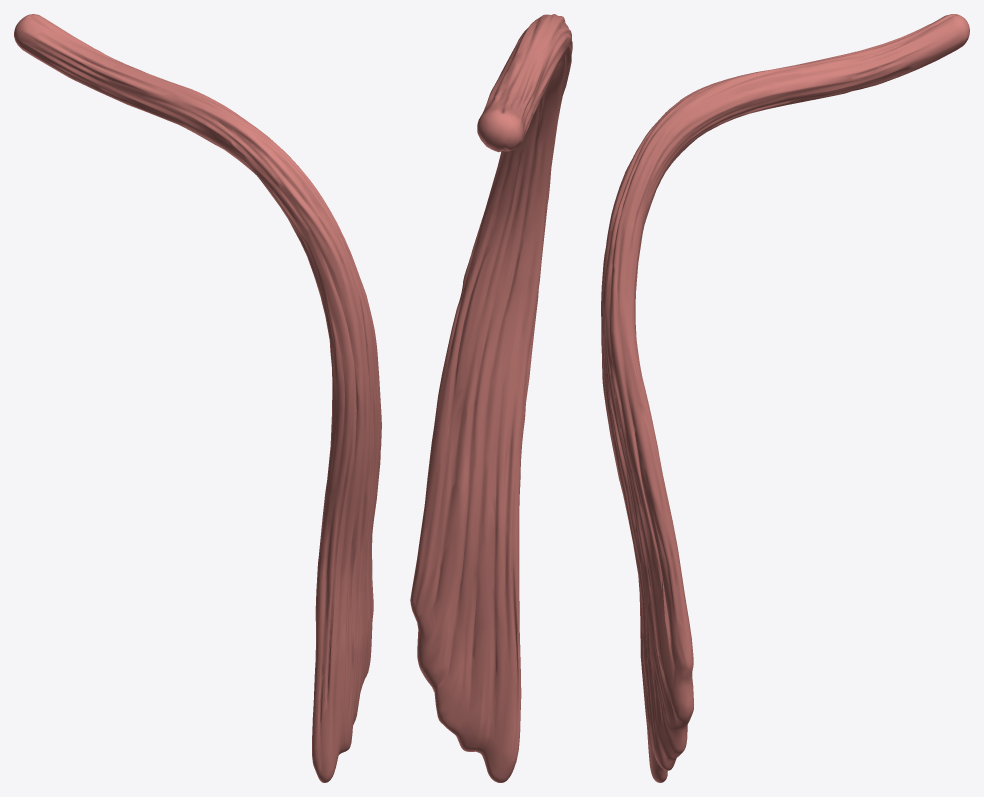
The model's file is fma46669_fj2757.glb.
3 views of the same model, side by side, from view 1: azimuth 30°, elevation 25°; view 2: azimuth 150°, elevation 25°; view 3: azimuth 270°, elevation 25° (orthographic). The views are drawn at different scales.
Parts seen in each view (by area): view 1: FMA46669_FJ2757; view 2: FMA46669_FJ2757; view 3: FMA46669_FJ2757.
Boxes of the visible parts, x1=… form: FMA46669_FJ2757: x1=14, y1=14, x2=381, y2=782; FMA46669_FJ2757: x1=410, y1=14, x2=572, y2=782; FMA46669_FJ2757: x1=601, y1=14, x2=969, y2=782.
Bounding box in the file's own units: 0.0138 × 0.0412 × 0.0198.
